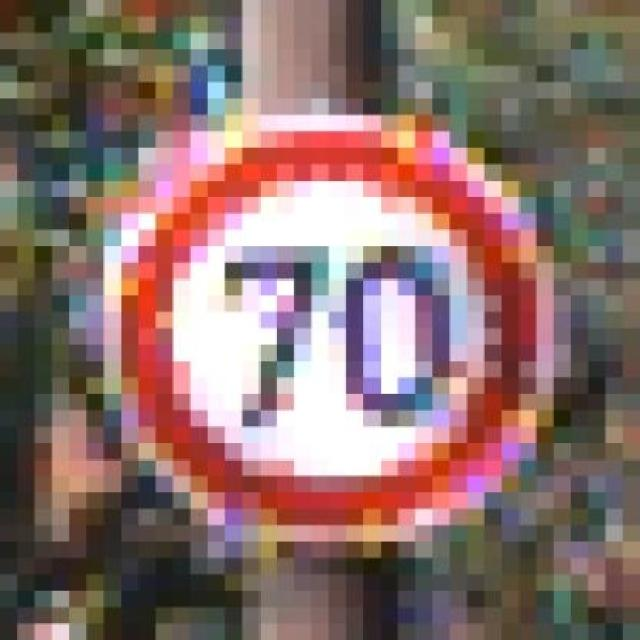forb_speed_over_70: (125, 122, 543, 536)
